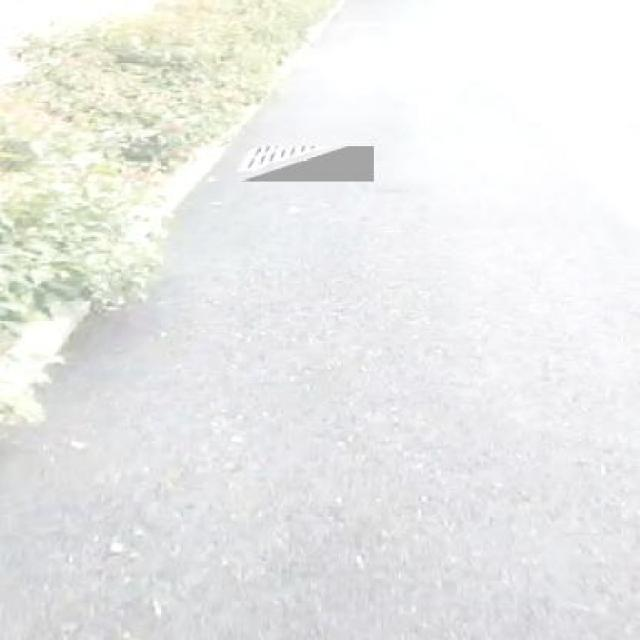Manhole: (238, 146, 374, 182)
